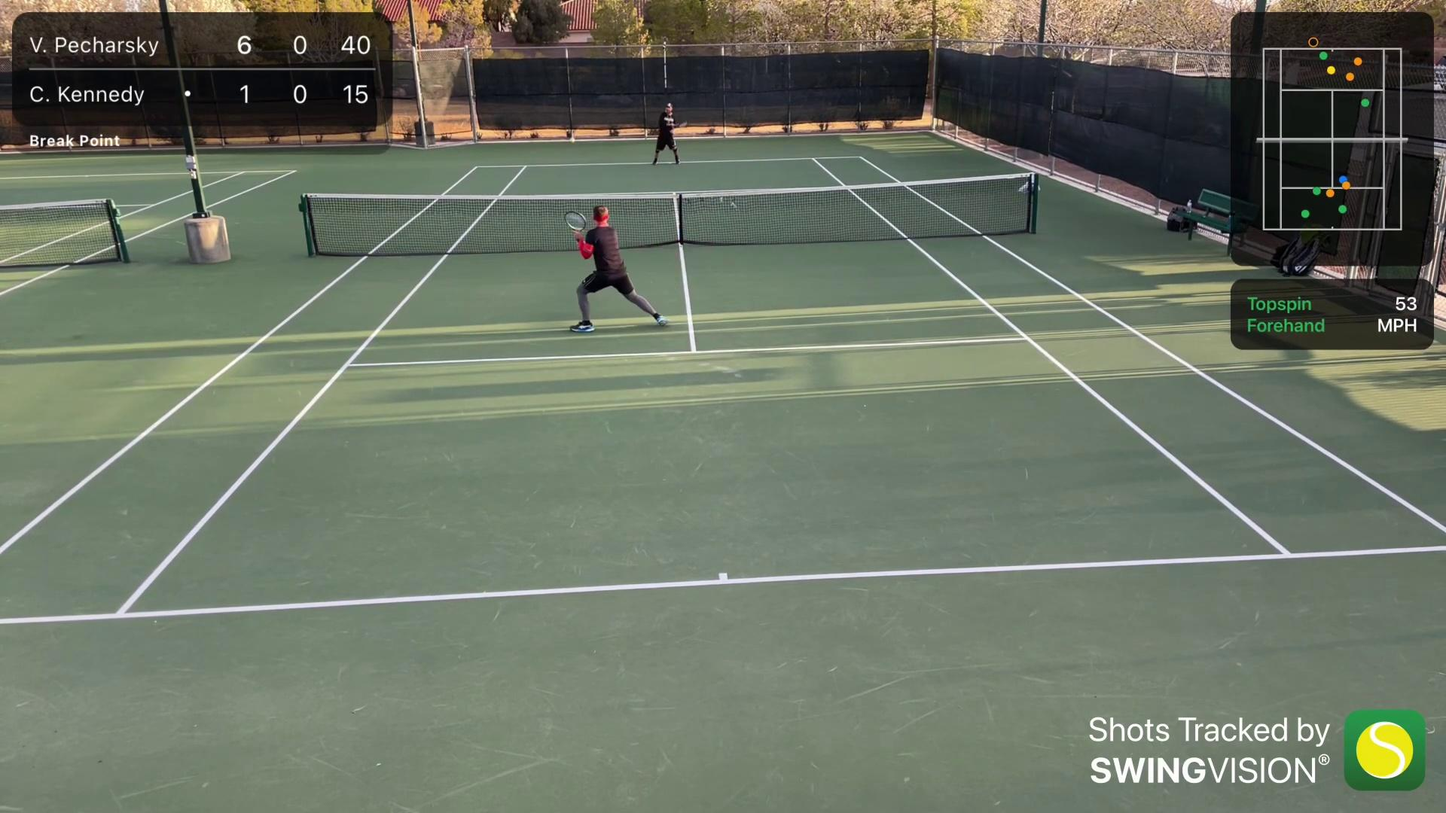ball: (568, 139, 575, 145)
